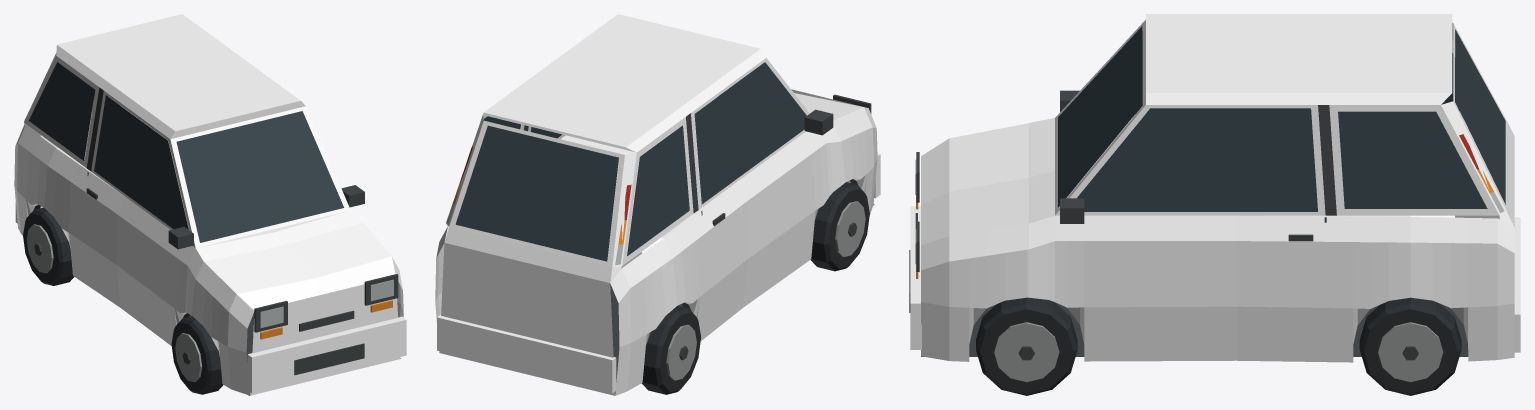
File: sanga_yanagi.glb
3 renders of one model, left to right at view 1: azimuth 30°, elevation 25°; view 2: azimuth 150°, elevation 25°; view 3: azimuth 270°, elevation 25°, orthographic. The views are drawn at different scales.
Visible parts, largest first — view 1: sanga; view 2: sanga; view 3: sanga.
Part boxes in pixels (x1,y1,x2,y2): sanga: (14, 14, 406, 395); sanga: (435, 14, 880, 395); sanga: (909, 14, 1520, 395).
Size of the model in its own units: 1.55 by 1.66 by 3.23.
Materials: 8 (1 with a texture image).
